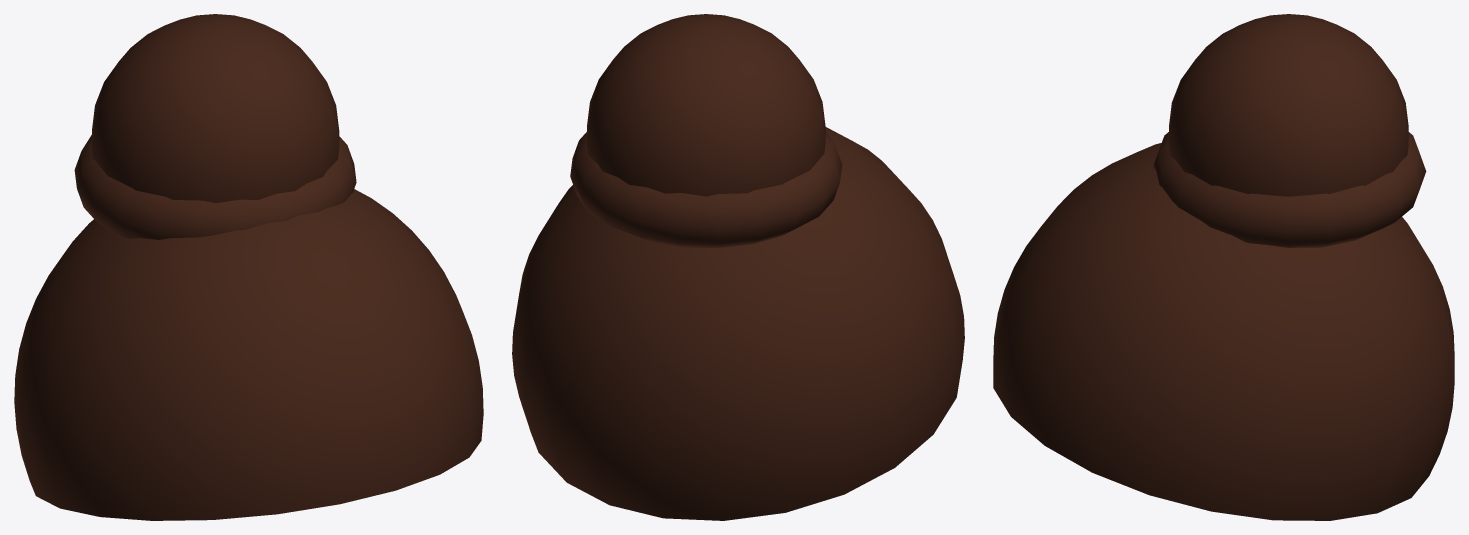
The model's file is bun.glb.
The picture shows the model from 3 angles, left to right: view 1: azimuth 30°, elevation 25°; view 2: azimuth 150°, elevation 25°; view 3: azimuth 270°, elevation 25°; orthographic projection. The views are drawn at different scales.
Visible parts, largest first — view 1: hair_cap, top_bun, bun_coil; view 2: hair_cap, top_bun, bun_coil; view 3: hair_cap, top_bun, bun_coil.
Part boxes in pixels (x1,y1,x2,y2): hair_cap: (14, 189, 483, 520); top_bun: (92, 14, 339, 203); bun_coil: (74, 135, 356, 239); hair_cap: (512, 127, 964, 520); top_bun: (587, 14, 825, 196); bun_coil: (570, 131, 842, 247); hair_cap: (993, 143, 1454, 520); top_bun: (1169, 14, 1408, 196); bun_coil: (1153, 132, 1426, 247).
Size of the model in its own units: 0.2302 by 0.2459 by 0.2349.
